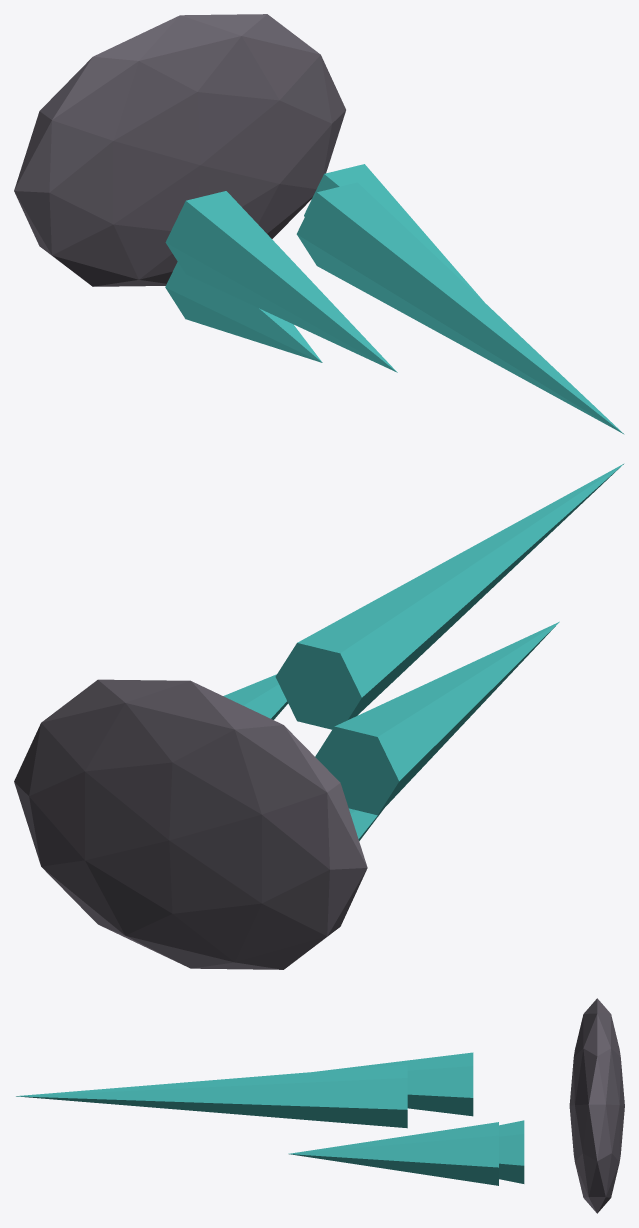
File: VP_PROTOTYPE_CRYSTALS.glb
3 views of the same model, one above another, from view 1: azimuth 30°, elevation 25°; view 2: azimuth 150°, elevation 25°; view 3: azimuth 270°, elevation 25° (orthographic). The views are drawn at different scales.
Parts seen in each view (by area): view 1: world; view 2: world; view 3: world.
Part boxes in pixels (box(x1,y1,x2,y2)): world: box(14, 14, 624, 434); world: box(14, 463, 624, 969); world: box(16, 998, 624, 1213).
Size of the model in its own units: 1.8 by 1.4 by 4.19.
